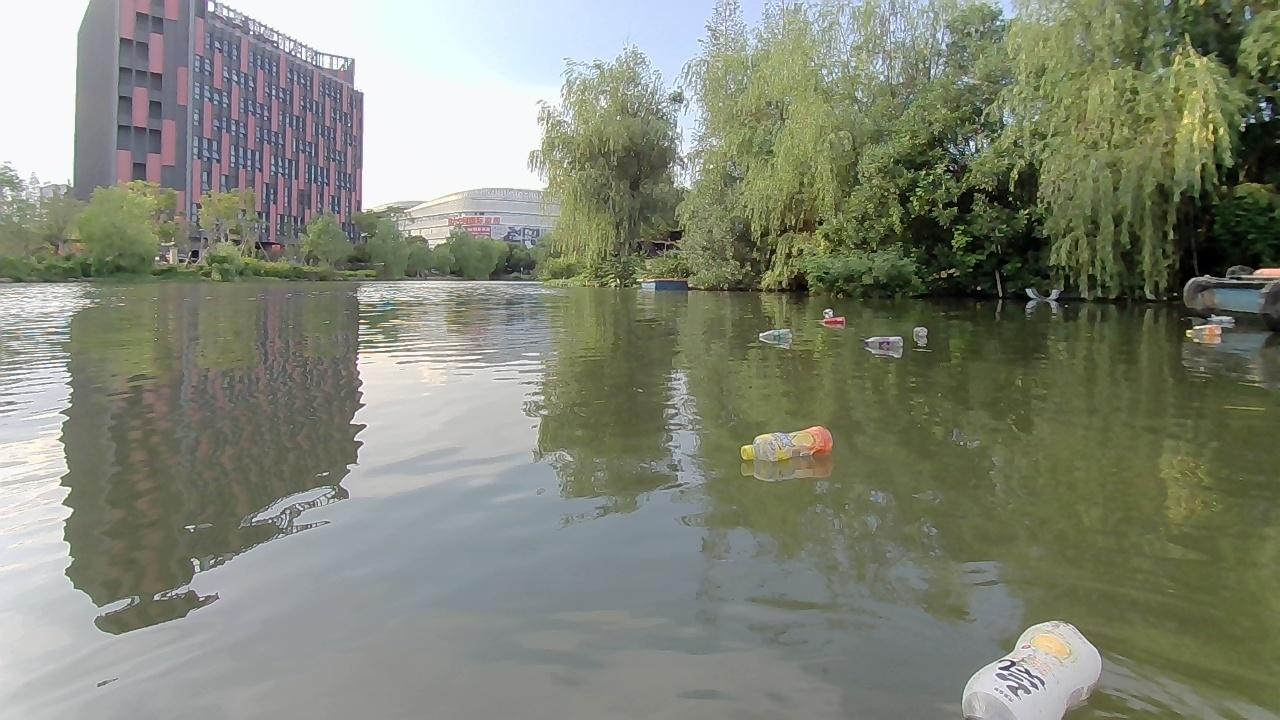bottle: (929, 608, 1105, 719), (735, 427, 834, 466), (861, 330, 904, 352), (756, 326, 793, 345), (1207, 309, 1234, 330), (1185, 319, 1216, 336), (908, 322, 932, 343), (821, 316, 846, 327), (823, 306, 836, 319)
